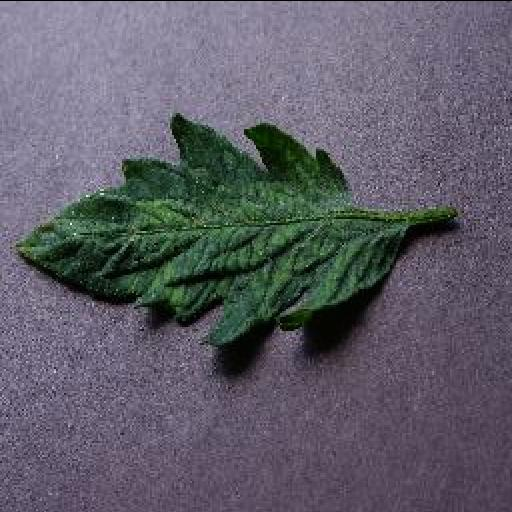Mosaic Virus: (11, 110, 405, 348)
